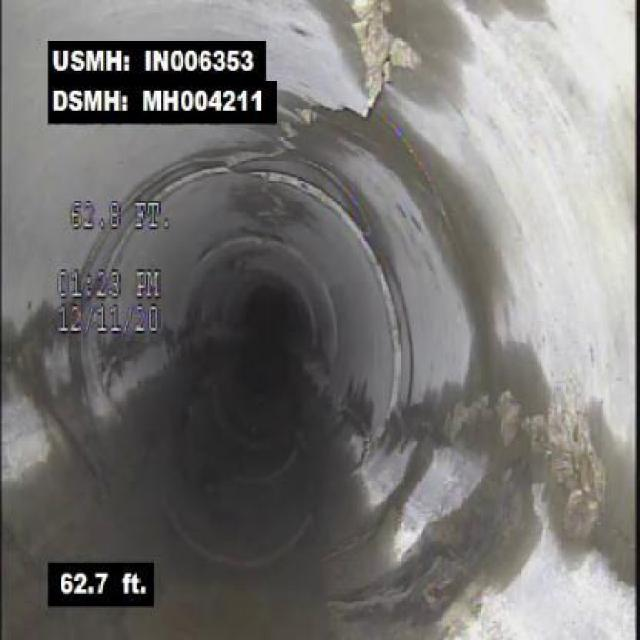Buckling: (338, 0, 404, 125), (224, 143, 294, 177)
Crack: (302, 155, 346, 191)
